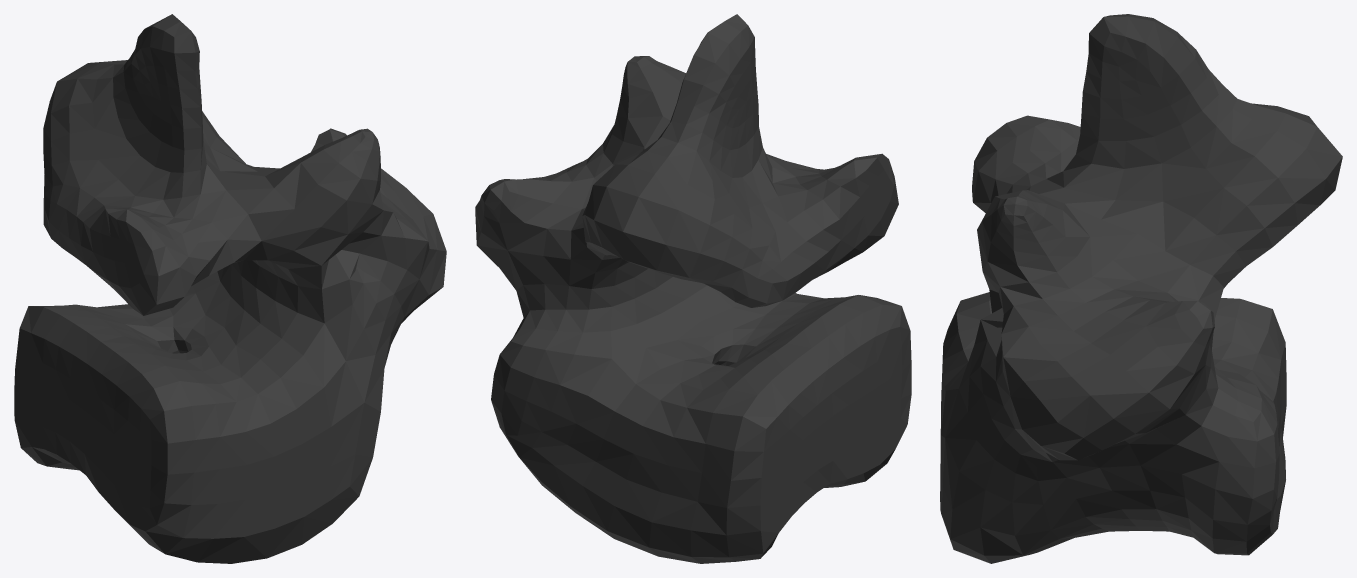
3 views of the same model, side by side, from view 1: azimuth 30°, elevation 25°; view 2: azimuth 150°, elevation 25°; view 3: azimuth 270°, elevation 25° (orthographic). The views are drawn at different scales.
Parts seen in each view (by area): view 1: T11; view 2: T11; view 3: T11.
Part boxes in pixels (box(x1,y1,x2,y2)): T11: box(14, 14, 446, 563); T11: box(475, 14, 911, 563); T11: box(940, 14, 1342, 563).
Size of the model in its own units: 0.00721 by 0.00998 by 0.00689.
1 material, 1 textured.
